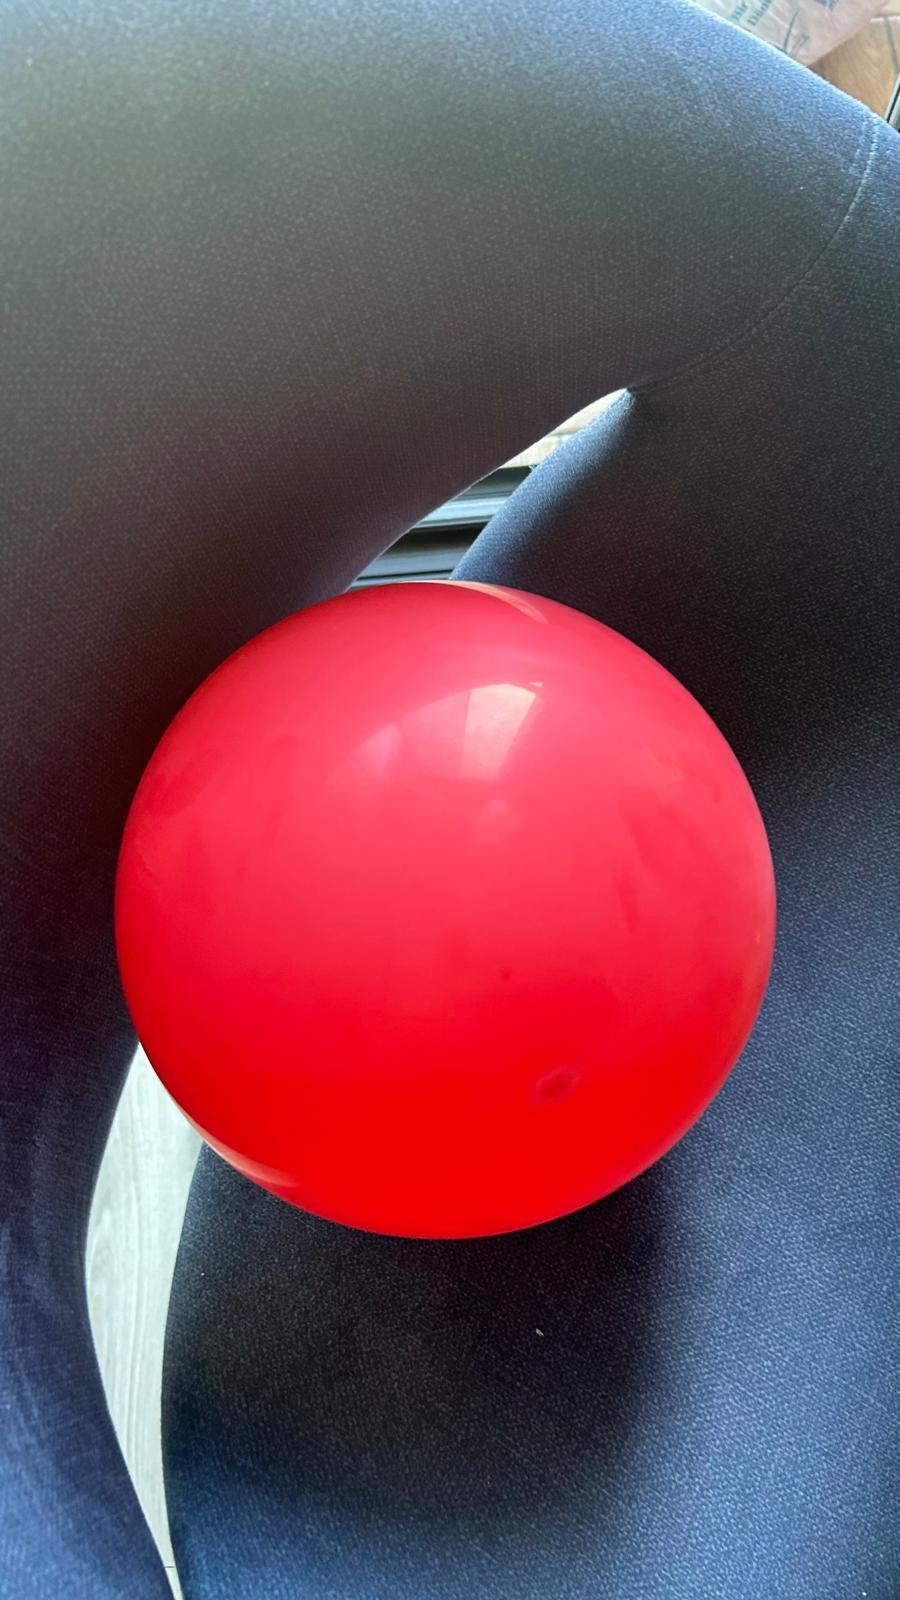red: (108, 574, 791, 1249)
